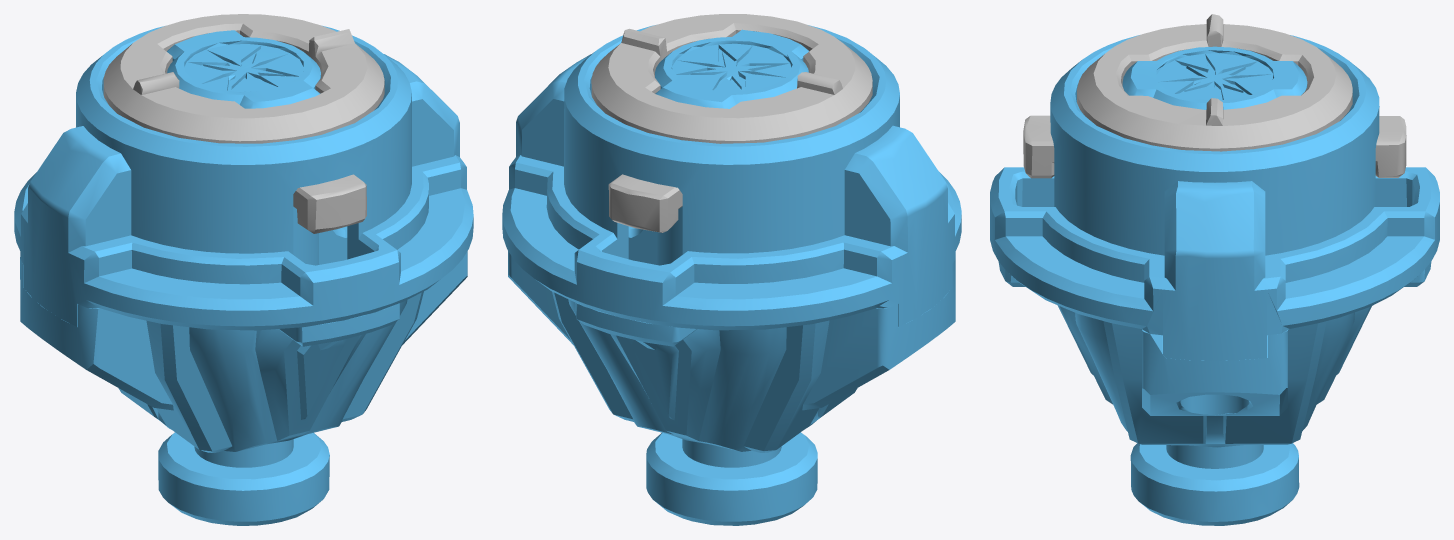
The model's file is volcanic_driver.obj.
3 renders of one model, left to right at view 1: azimuth 30°, elevation 25°; view 2: azimuth 150°, elevation 25°; view 3: azimuth 270°, elevation 25°, orthographic. The views are drawn at different scales.
Visible parts, largest first — view 1: Mesh_0026.rip_Mesh_0026.rip_mesh0000, Mesh_0027.rip_Mesh_0027.rip_mesh0000; view 2: Mesh_0026.rip_Mesh_0026.rip_mesh0000, Mesh_0027.rip_Mesh_0027.rip_mesh0000; view 3: Mesh_0026.rip_Mesh_0026.rip_mesh0000, Mesh_0027.rip_Mesh_0027.rip_mesh0000.
Part boxes in pixels (box(x1,y1,x2,y2)): Mesh_0026.rip_Mesh_0026.rip_mesh0000: box(14, 25, 473, 525); Mesh_0027.rip_Mesh_0027.rip_mesh0000: box(103, 14, 384, 233); Mesh_0026.rip_Mesh_0026.rip_mesh0000: box(502, 25, 961, 525); Mesh_0027.rip_Mesh_0027.rip_mesh0000: box(591, 14, 872, 232); Mesh_0026.rip_Mesh_0026.rip_mesh0000: box(990, 35, 1439, 525); Mesh_0027.rip_Mesh_0027.rip_mesh0000: box(1023, 14, 1406, 178).
Bounding box in the file's own units: 0.2682 × 0.2821 × 0.2676.
